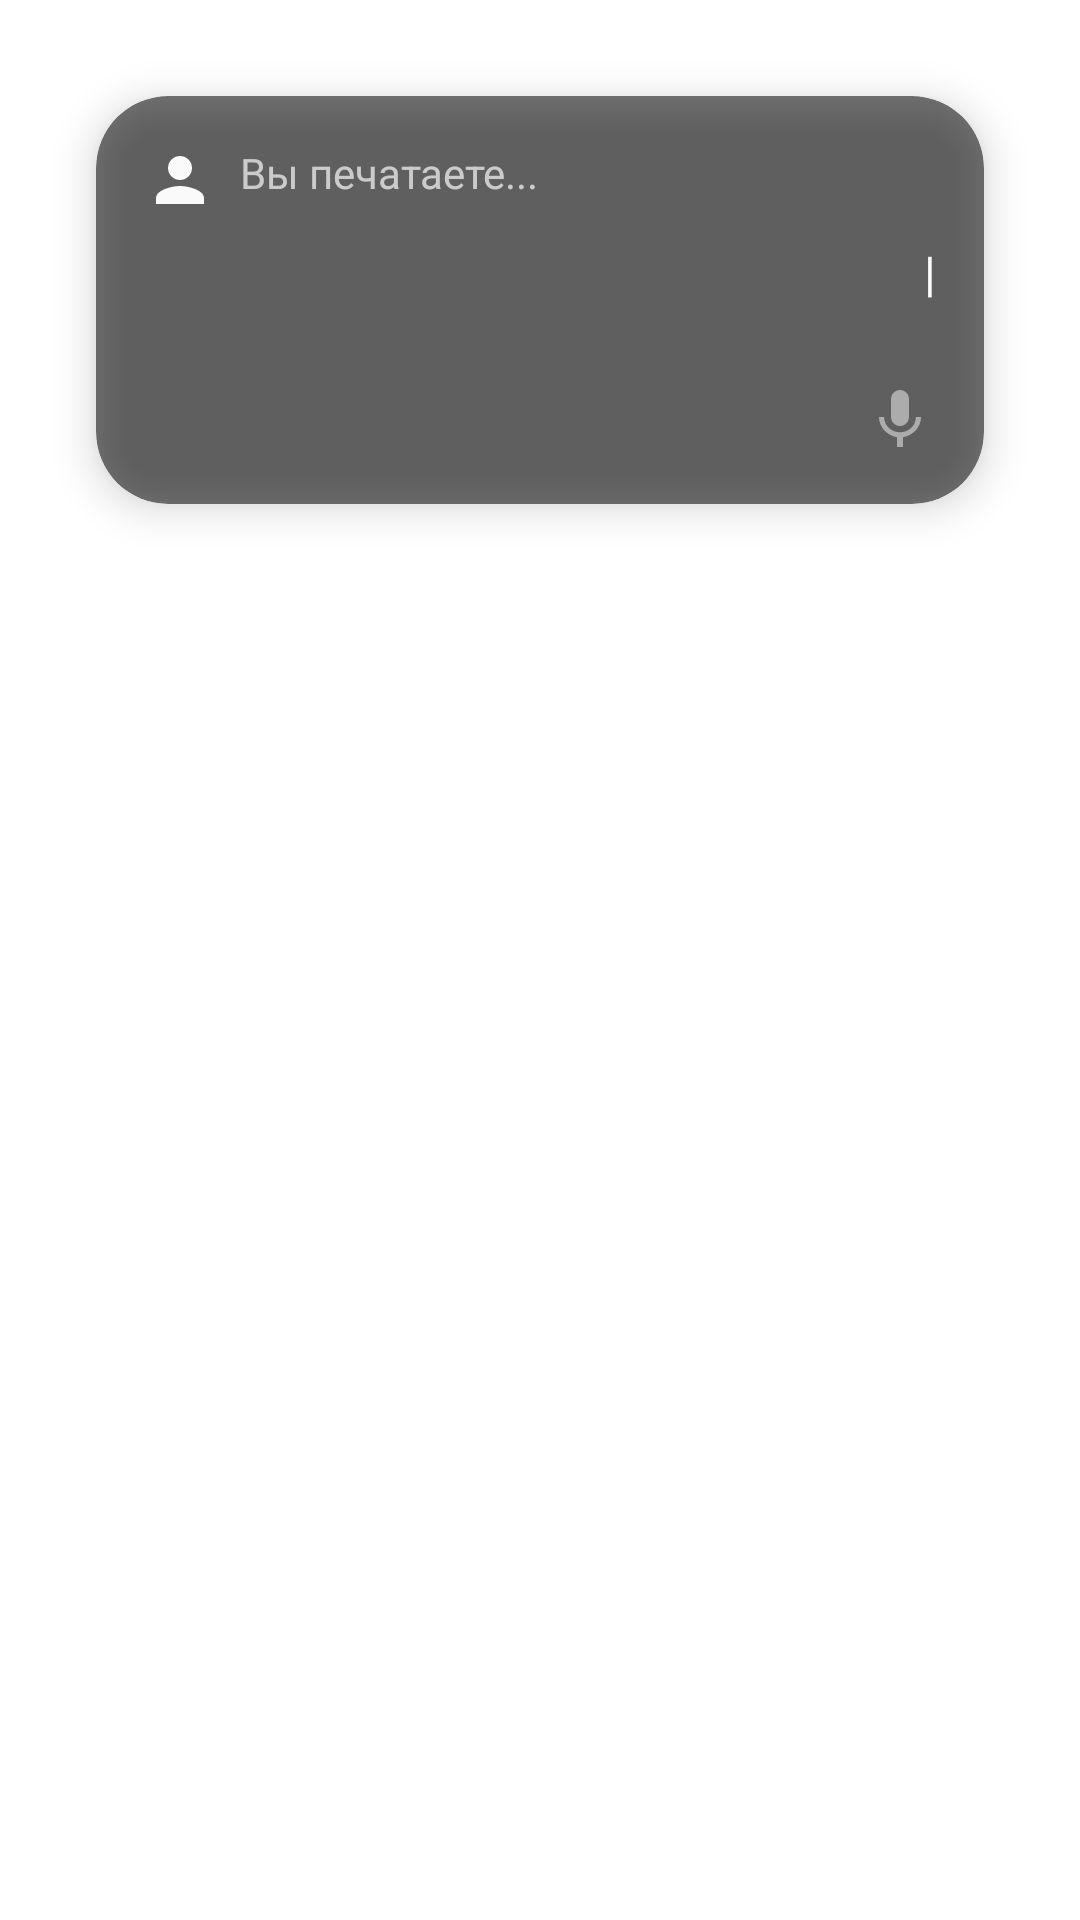

Named icons in this screenshot (1080×1920) and their centers, point (x, y):
mic: point (900, 418)
person: point (180, 180)
